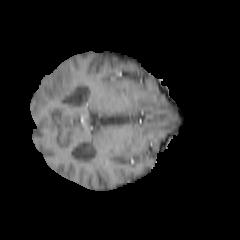glioma: (40, 68, 73, 101)
